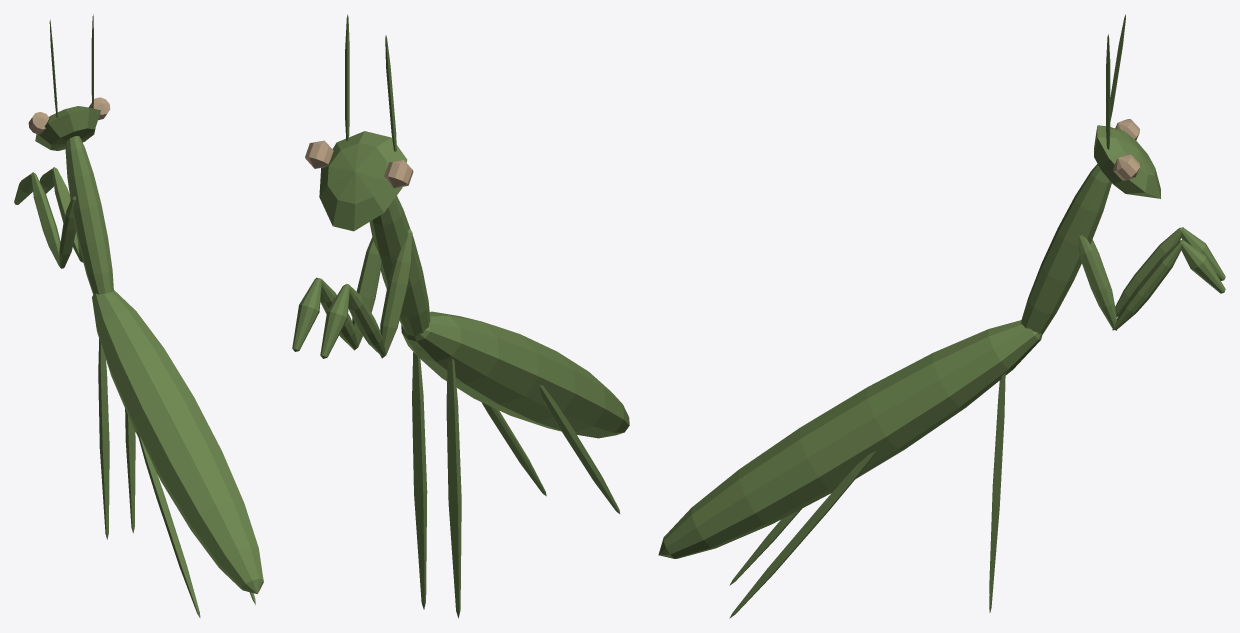
Rendered from hallie_mantis.fbx.
3 renders of one model, left to right at view 1: azimuth 30°, elevation 25°; view 2: azimuth 150°, elevation 25°; view 3: azimuth 270°, elevation 25°, orthographic. The views are drawn at different scales.
Parts seen in each view (by area): view 1: m_mantis1; view 2: m_mantis1; view 3: m_mantis1.
Boxes of the visible parts, <box> form: m_mantis1: <box>14,14,263,617</box>; m_mantis1: <box>292,14,629,618</box>; m_mantis1: <box>658,14,1225,618</box>.
Bounding box in the file's own units: 0.0224 × 0.1345 × 0.118.
